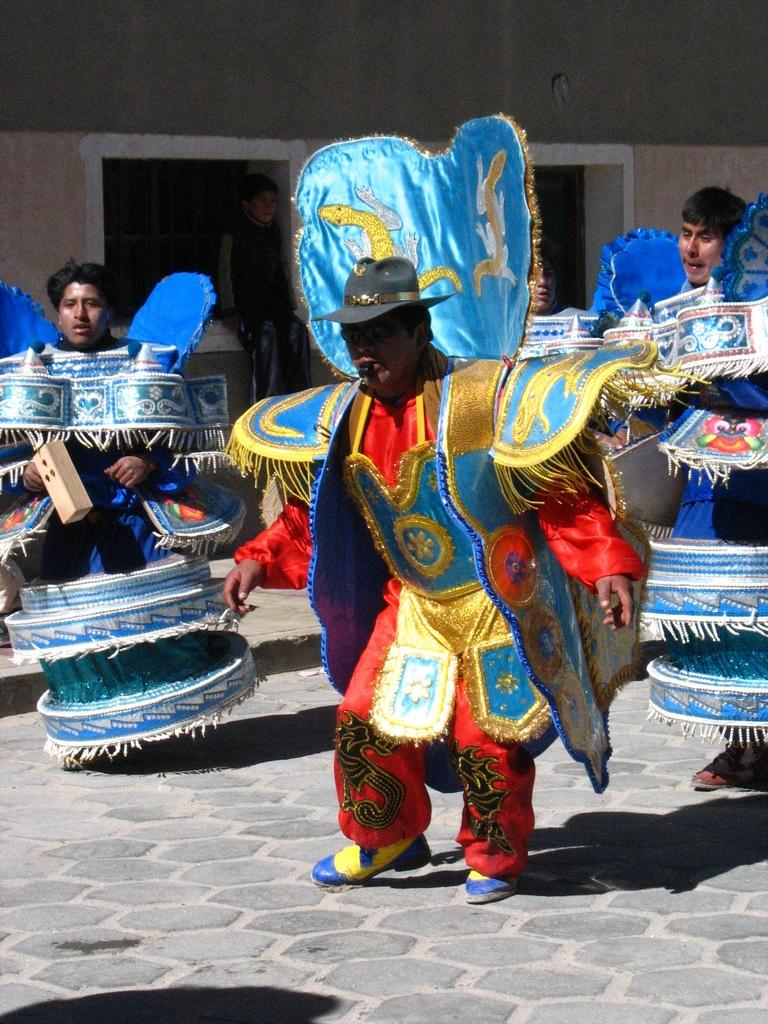Hat: (299, 251, 455, 335)
